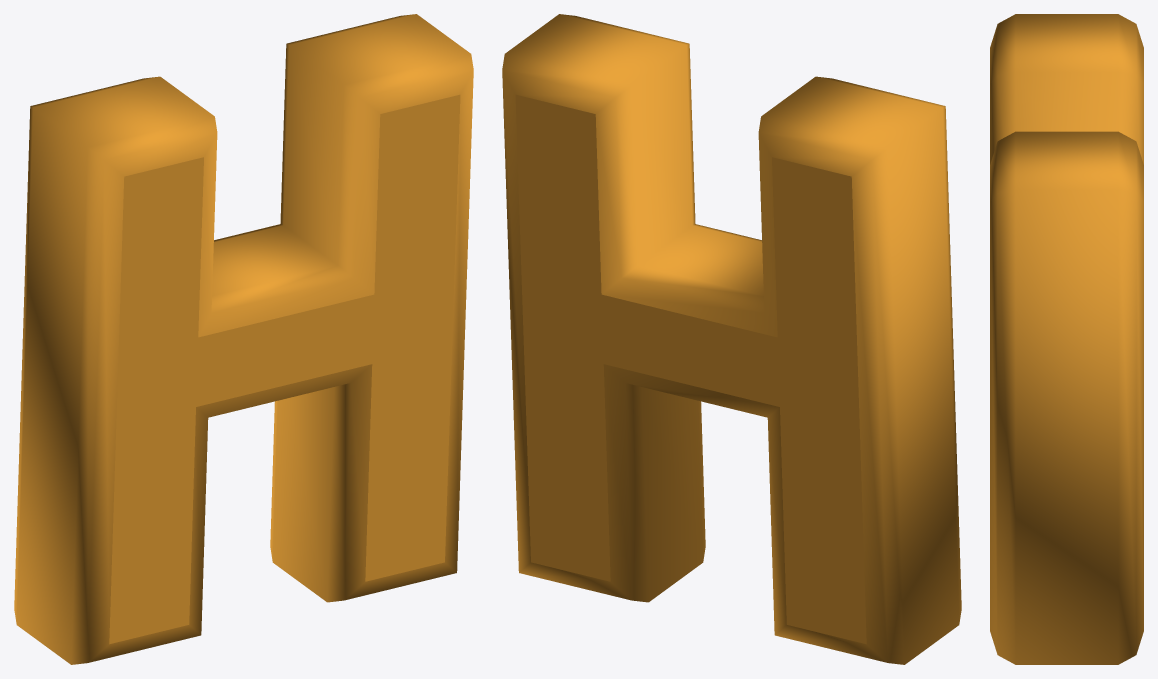
The model's file is H_Caps.fbx.
3 renders of one model, left to right at view 1: azimuth 30°, elevation 25°; view 2: azimuth 150°, elevation 25°; view 3: azimuth 270°, elevation 25°, orthographic. The views are drawn at different scales.
Visible parts, largest first — view 1: H; view 2: H; view 3: H.
Boxes of the visible parts, x1,y1,x2,y2 form: H: [14, 14, 473, 664]; H: [502, 14, 961, 664]; H: [990, 14, 1143, 664].
Bounding box in the file's own units: 0.5082 × 0.6232 × 0.18.
